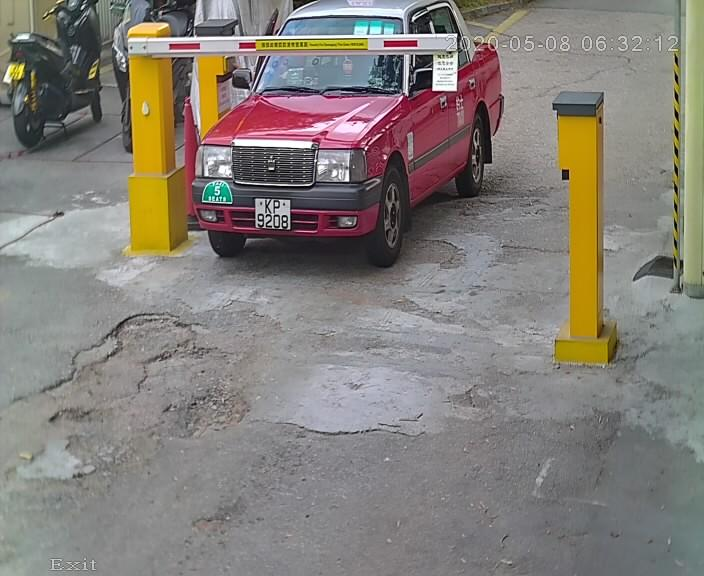Car: (179, 1, 523, 275)
License Plate: (248, 192, 299, 235)
